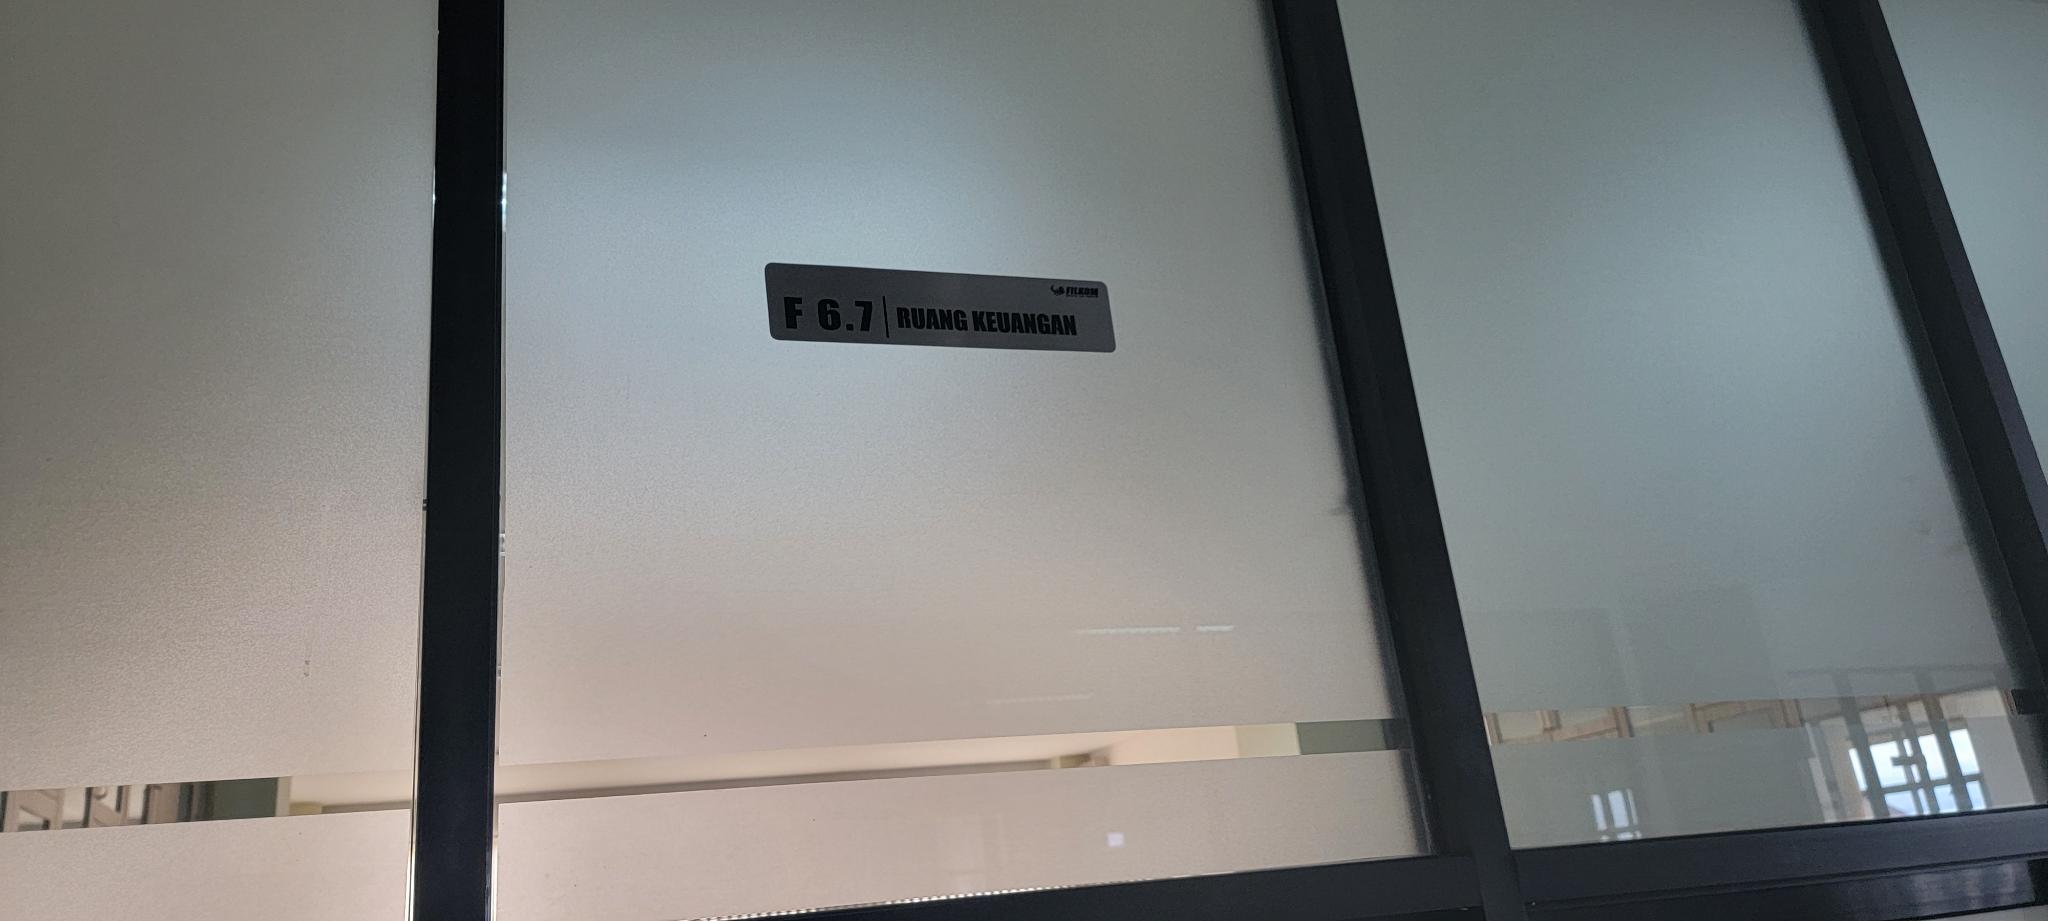plate: (764, 263, 1117, 355)
